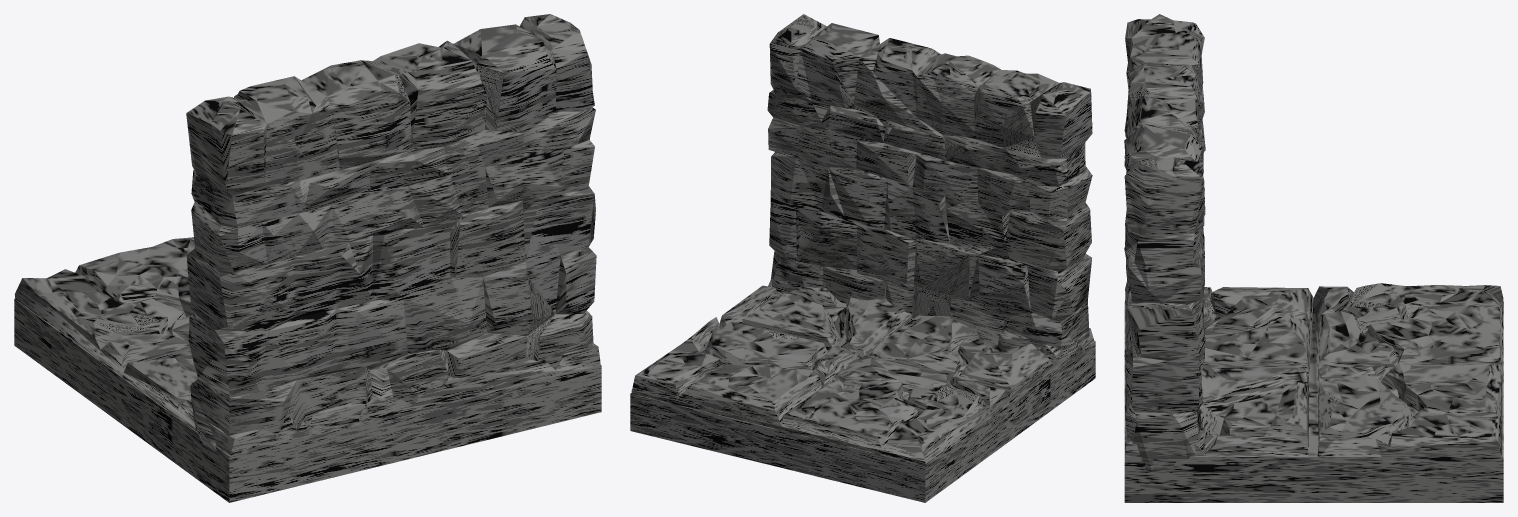
The model's file is rough_stone_wall.fbx.
3 views of the same model, side by side, from view 1: azimuth 30°, elevation 25°; view 2: azimuth 150°, elevation 25°; view 3: azimuth 270°, elevation 25° (orthographic). The views are drawn at different scales.
Parts seen in each view (by area): view 1: Cube.003; view 2: Cube.003; view 3: Cube.003.
Boxes of the visible parts, x1,y1,x2,y2 form: Cube.003: (14, 14, 601, 502); Cube.003: (630, 14, 1095, 502); Cube.003: (1124, 14, 1503, 502).
Bounding box in the file's own units: 5114 × 4872 × 5006.
1 material, 1 textured.
